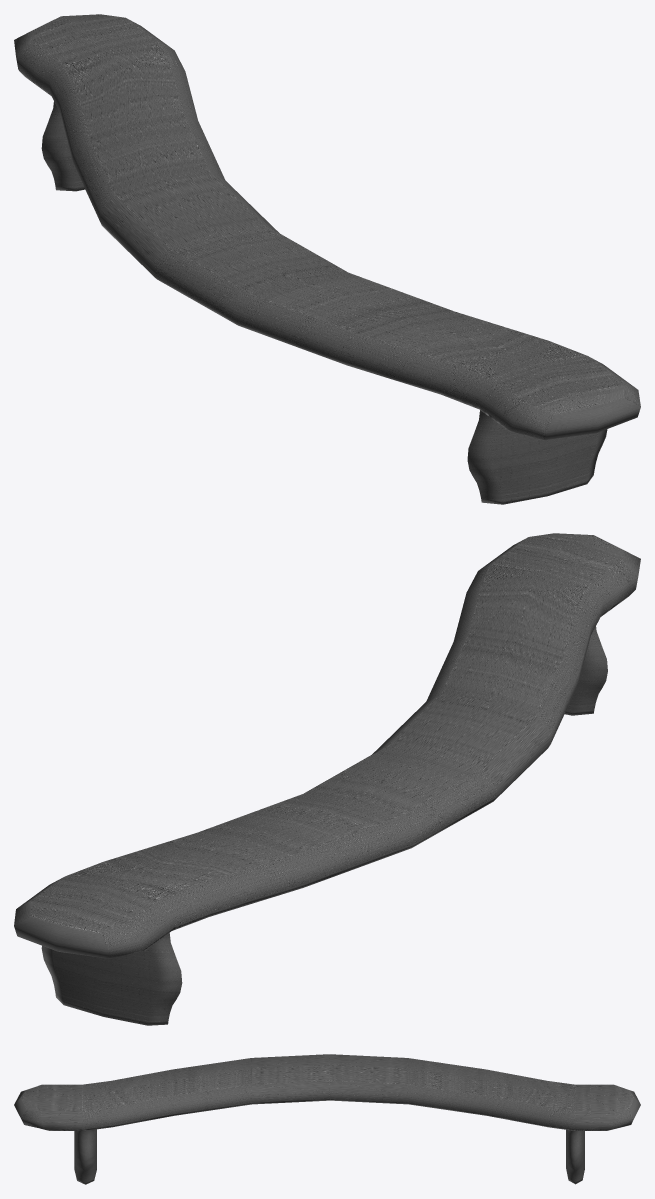
File: longstonebench.fbx
3 views of the same model, one above another, from view 1: azimuth 30°, elevation 25°; view 2: azimuth 150°, elevation 25°; view 3: azimuth 270°, elevation 25° (orthographic). The views are drawn at different scales.
Parts seen in each view (by area): view 1: stonebench; view 2: stonebench; view 3: stonebench.
Boxes of the visible parts, x1,y1,x2,y2 form: stonebench: [14, 14, 640, 504]; stonebench: [14, 533, 640, 1025]; stonebench: [14, 1054, 640, 1184].
Size of the model in its own units: 2.83 by 1.45 by 11.06.
